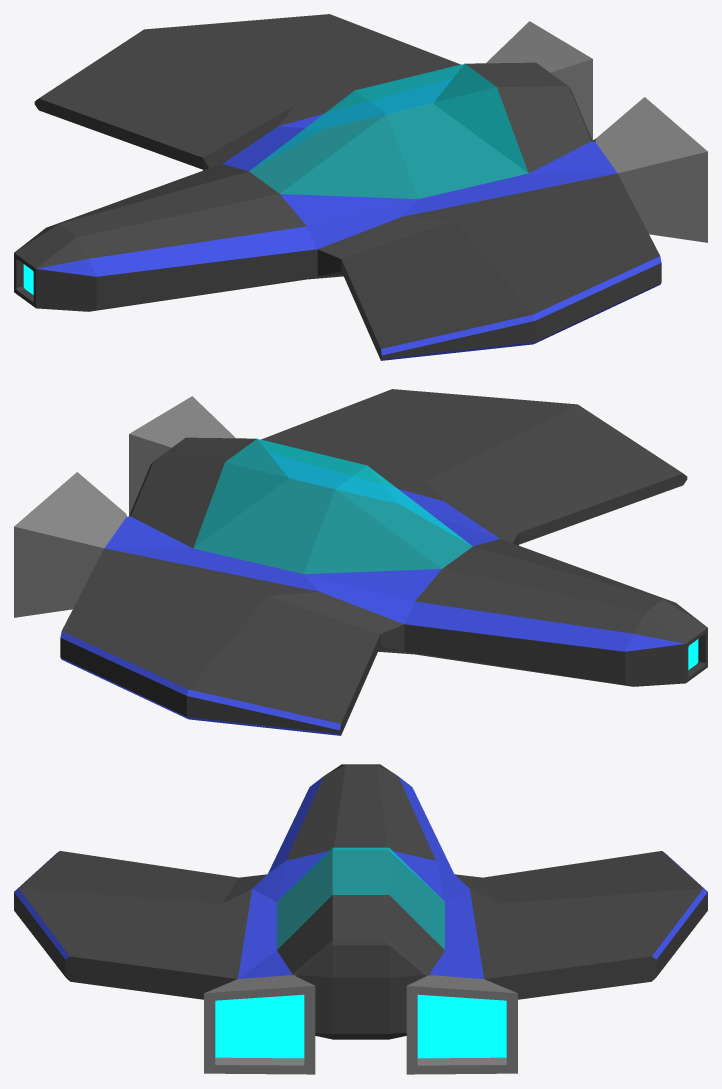
The model's file is ship6.fbx.
3 views of the same model, one above another, from view 1: azimuth 30°, elevation 25°; view 2: azimuth 150°, elevation 25°; view 3: azimuth 270°, elevation 25° (orthographic). The views are drawn at different scales.
Visible parts, largest first — view 1: Cube; view 2: Cube; view 3: Cube.
Part boxes in pixels (bbox=[...]): Cube: bbox=[14, 14, 707, 360]; Cube: bbox=[14, 389, 707, 735]; Cube: bbox=[14, 764, 707, 1074].
Size of the model in its own units: 598 by 137 by 688.
